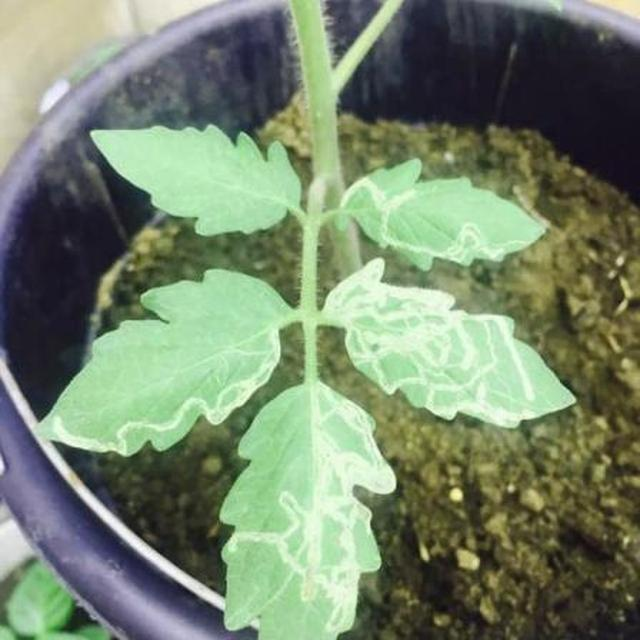Leaf Miner: (230, 160, 640, 640)
